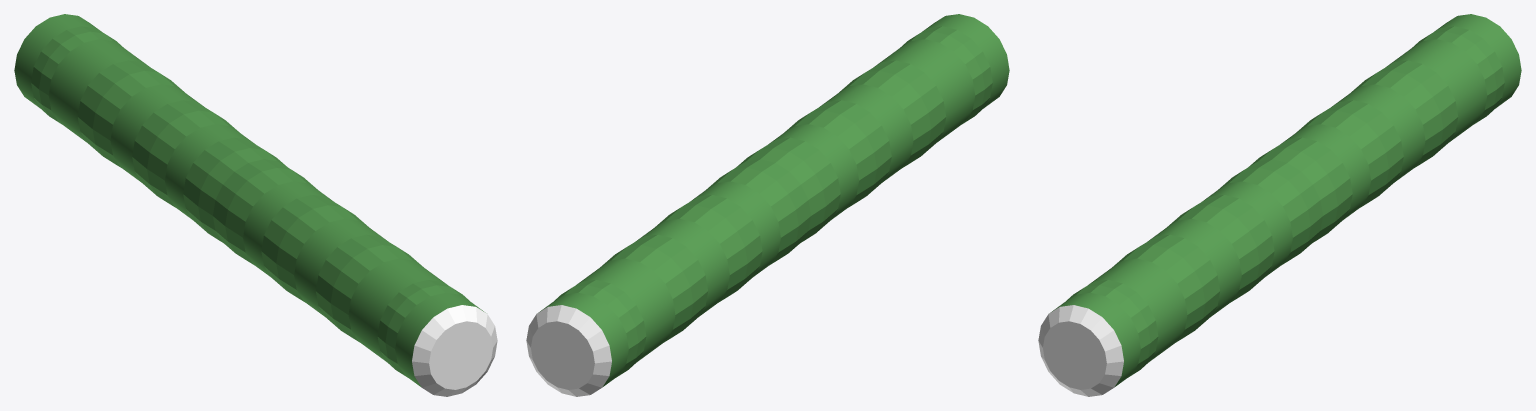
The model's file is SM_sweet_05.fbx.
The picture shows the model from 3 angles, left to right: view 1: azimuth 30°, elevation 25°; view 2: azimuth 150°, elevation 25°; view 3: azimuth 330°, elevation 25°; orthographic projection.
Visible parts, largest first — view 1: sweet_05; view 2: sweet_05; view 3: sweet_05.
Boxes of the visible parts, bbox=[...] form: sweet_05: bbox=[14, 14, 497, 396]; sweet_05: bbox=[526, 14, 1009, 396]; sweet_05: bbox=[1038, 14, 1521, 396].
Bounding box in the file's own units: 7.14 × 7.03 × 57.16.
